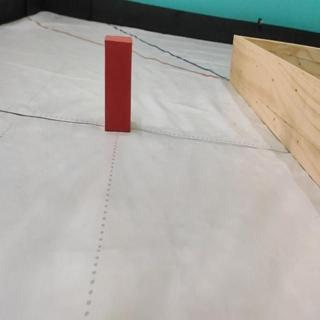redbox: (105, 35, 133, 132)
